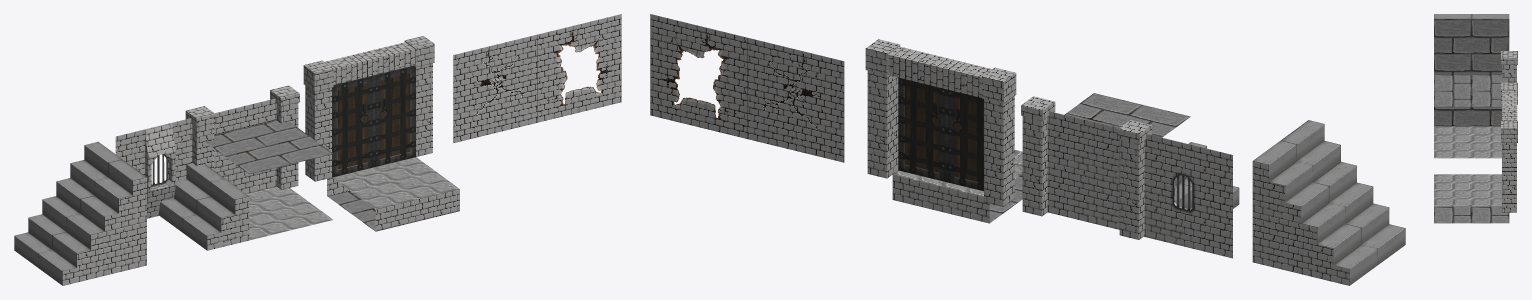
Rendered from StoneInterior_Meshes.fbx.
3 views of the same model, side by side, from view 1: azimuth 30°, elevation 25°; view 2: azimuth 150°, elevation 25°; view 3: azimuth 270°, elevation 25° (orthographic). The views are drawn at different scales.
Visible parts, largest first — view 1: stone2x2Stairs, stoneWallCracked, stoneDoorFrame, stoneWalDestroyed, stone1x1Stairs, stonePlatform, stoneWindow, doorRight, doorLeft, stoneFloor, stoneWall, stoneCeiling (+4 smaller); view 2: stone2x2Stairs, stoneDoorFrame, stoneWallCracked, stoneWindow, stoneWalDestroyed, stoneWall, doorRight, doorLeft, stonePillar2, stonePillar1, stonePlatformEdge, stone1x1Stairs (+4 smaller); view 3: stone2x2Stairs, stonePlatform, stoneFloor, stoneDoorFrame, stone1x1Stairs, stoneCeilingHalf, stoneCeiling, stonePillar1, stonePlatformHalf.
Boxes of the visible parts, x1,y1,x2,y2 form: stone2x2Stairs: (14,141,146,285); stoneWallCracked: (453,34,537,142); stoneDoorFrame: (303,36,434,181); stoneWalDestroyed: (537,14,621,122); stone1x1Stairs: (158,163,249,250); stonePlatform: (327,157,459,231); stoneWindow: (115,118,192,218); doorRight: (374,65,415,167); doorLeft: (332,75,373,177); stoneFloor: (246,186,332,240); stoneWall: (214,98,276,193); stoneCeiling: (243,120,332,163); stone2x2Stairs: (1252,120,1405,285); stoneDoorFrame: (865,39,1016,206); stoneWallCracked: (747,37,844,162); stoneWindow: (1144,134,1232,258); stoneWalDestroyed: (650,14,747,138); stoneWall: (1047,111,1119,229); doorRight: (898,77,946,181); doorLeft: (946,89,983,191); stonePillar2: (1021,96,1055,216); stonePillar1: (1117,120,1151,239); stonePlatformEdge: (892,174,989,223); stone1x1Stairs: (1144,142,1239,244); stone2x2Stairs: (1434,14,1509,75); stonePlatform: (1434,174,1509,223); stoneFloor: (1434,126,1501,158); stoneDoorFrame: (1501,82,1517,212); stone1x1Stairs: (1434,107,1501,126); stoneCeilingHalf: (1434,75,1509,90); stoneCeiling: (1434,91,1501,106); stonePillar1: (1501,51,1517,82); stonePlatformHalf: (1434,174,1490,188).
Bounding box in the file's own units: 1443 × 298 × 222.
1 material, 1 textured.
